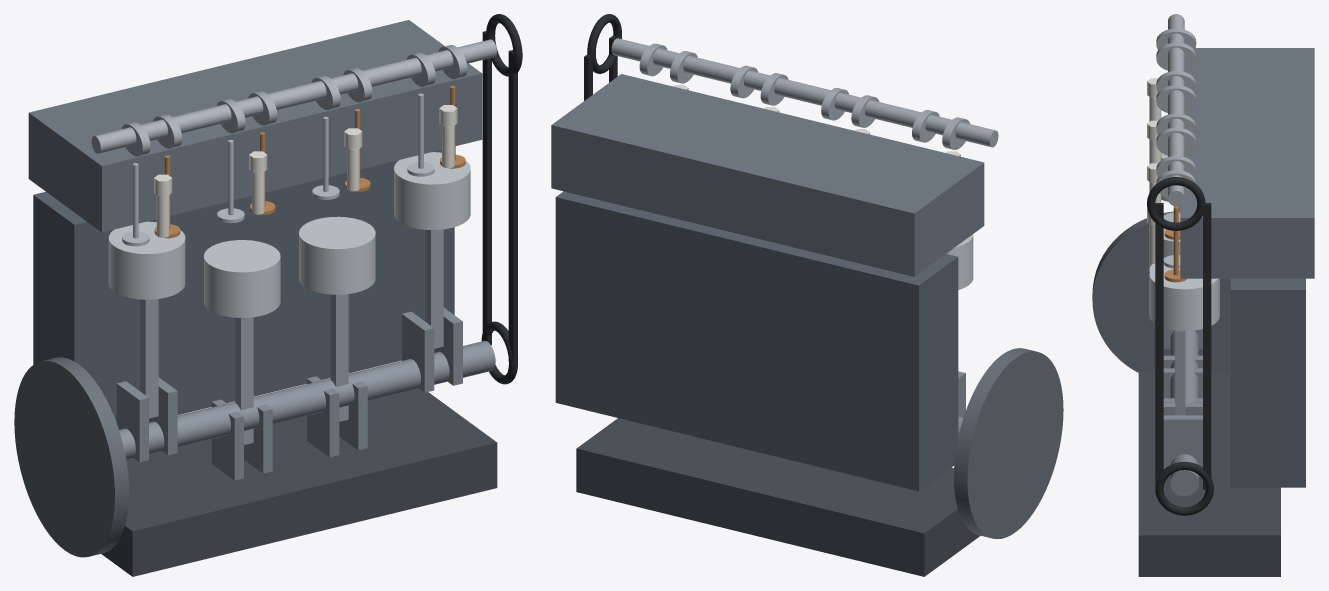
3 renders of one model, left to right at view 1: azimuth 30°, elevation 25°; view 2: azimuth 150°, elevation 25°; view 3: azimuth 270°, elevation 25°, orthographic. The views are drawn at different scales.
Parts seen in each view (by area): view 1: cylinder_block, cylinder_head, oil_pan, crankshaft, pistons, flywheel, camshaft, connecting_rods, timing_belt, spark_plugs, intake_valves, exhaust_valves; view 2: cylinder_block, cylinder_head, oil_pan, flywheel, camshaft, timing_belt, pistons; view 3: cylinder_head, oil_pan, cylinder_block, flywheel, timing_belt, camshaft, crankshaft, pistons, spark_plugs, connecting_rods, exhaust_valves.
Boxes of the visible parts, x1,y1,x2,y2 form: cylinder_block: [33, 149, 454, 421]; cylinder_head: [28, 20, 482, 232]; oil_pan: [101, 388, 497, 576]; crankshaft: [116, 307, 495, 480]; pistons: [108, 152, 470, 317]; flywheel: [14, 357, 129, 557]; camshaft: [91, 39, 496, 156]; connecting_rods: [140, 229, 443, 444]; timing_belt: [481, 14, 522, 384]; spark_plugs: [154, 105, 457, 237]; intake_valves: [122, 93, 434, 246]; exhaust_valves: [154, 85, 465, 238]; cylinder_block: [555, 191, 958, 491]; cylinder_head: [551, 74, 984, 276]; oil_pan: [576, 418, 980, 576]; flywheel: [954, 348, 1063, 539]; camshaft: [611, 38, 998, 149]; timing_belt: [584, 14, 621, 100]; pistons: [946, 234, 973, 289]; cylinder_head: [1180, 48, 1314, 278]; oil_pan: [1138, 372, 1280, 576]; cylinder_block: [1230, 278, 1305, 487]; flywheel: [1092, 211, 1230, 372]; timing_belt: [1147, 177, 1213, 515]; camshaft: [1156, 14, 1196, 206]; crankshaft: [1163, 328, 1202, 496]; pistons: [1149, 153, 1219, 330]; spark_plugs: [1147, 78, 1161, 263]; connecting_rods: [1175, 205, 1185, 415]; exhaust_valves: [1164, 206, 1186, 282].
Bounding box in the file's own units: 4 × 3.92 × 1.91.
